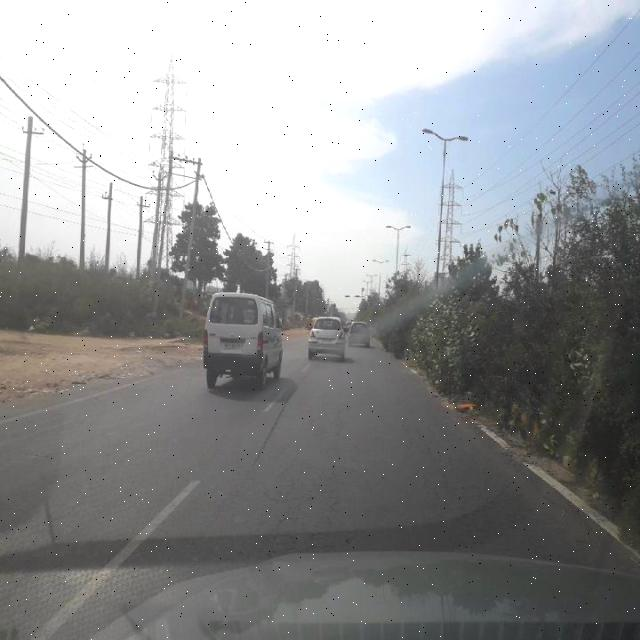D20: (2, 372, 548, 554)
